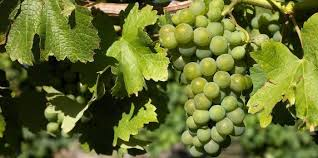Green grapes: (153, 3, 259, 158)
